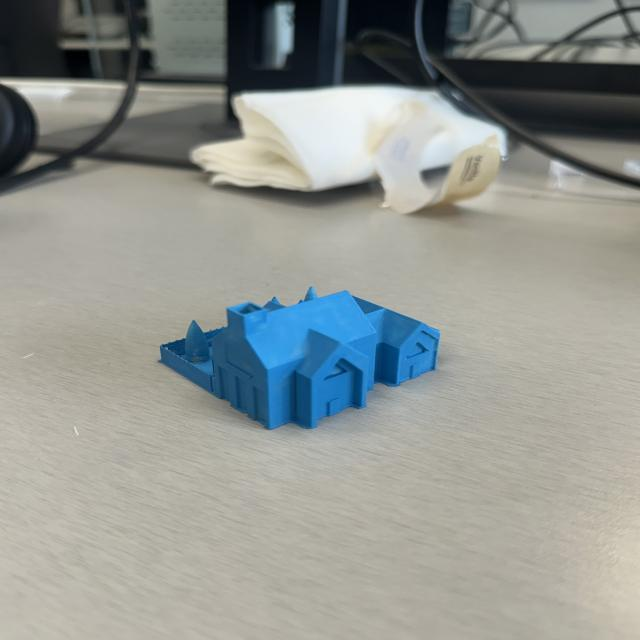house: (158, 285, 443, 431)
